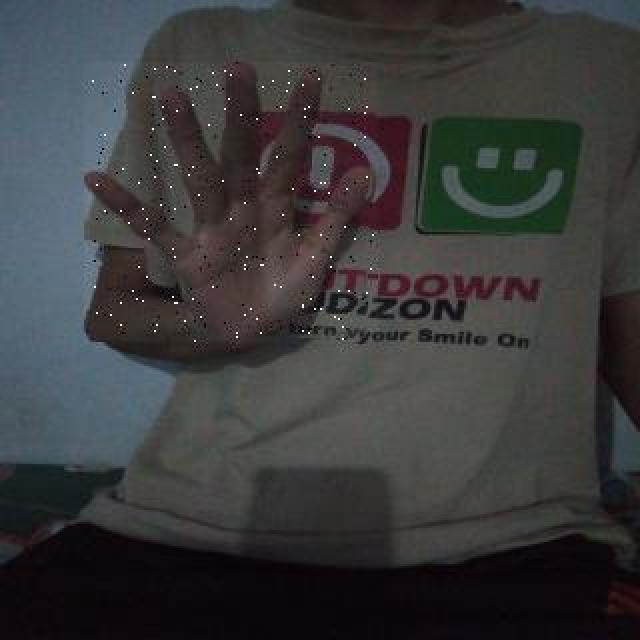hand: (84, 62, 378, 342)
